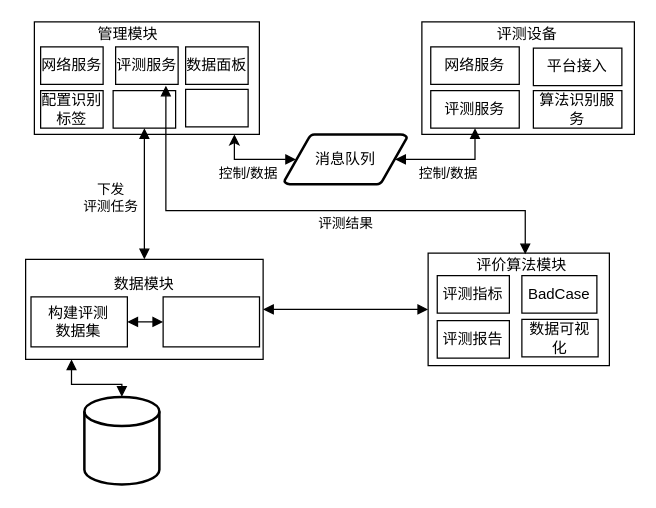
Some shapes in this 656 by 508 pixel diagram are drawn without their labels. Each missing label, with the centre of its shape:
"创建评测任务" belongs at (x=216, y=107).
"数据匿名" belongs at (x=211, y=321).
"数据管理" belongs at (x=144, y=108).
"评测图像数据库" belongs at (x=121, y=440).
